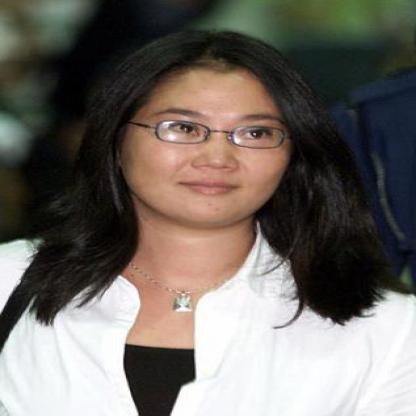face: (115, 41, 302, 228)
